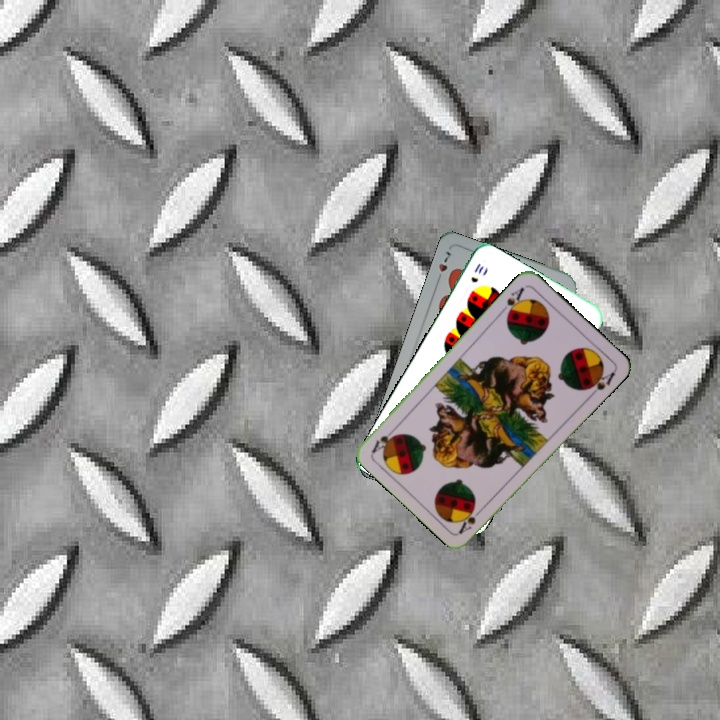H7: (433, 247, 453, 285)
S10: (467, 259, 487, 285)
SA: (455, 503, 487, 536), (502, 283, 527, 320)
